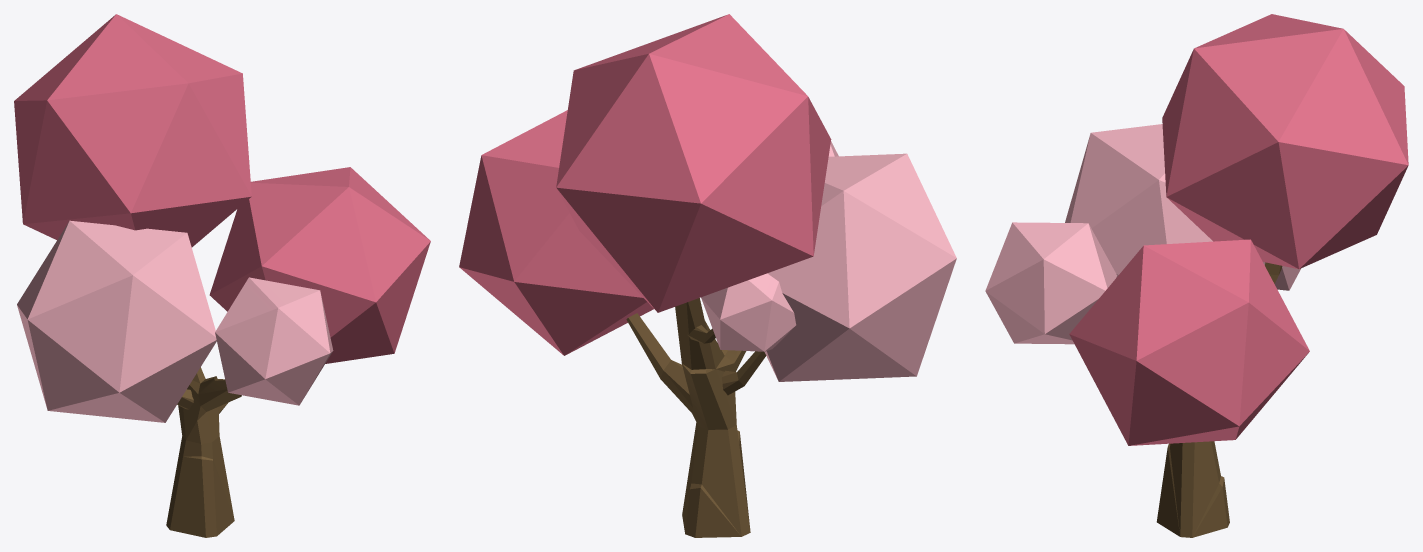
The model's file is model_polytope_tree01.fbx.
3 renders of one model, left to right at view 1: azimuth 30°, elevation 25°; view 2: azimuth 150°, elevation 25°; view 3: azimuth 270°, elevation 25°, orthographic. The views are drawn at different scales.
Parts seen in each view (by area): view 1: model_polytope_tree01; view 2: model_polytope_tree01; view 3: model_polytope_tree01.
Part boxes in pixels (x1,y1,x2,y2): model_polytope_tree01: (14,14,430,537); model_polytope_tree01: (459,14,956,537); model_polytope_tree01: (985,14,1408,537).
Size of the model in its own units: 517 by 578 by 455.
